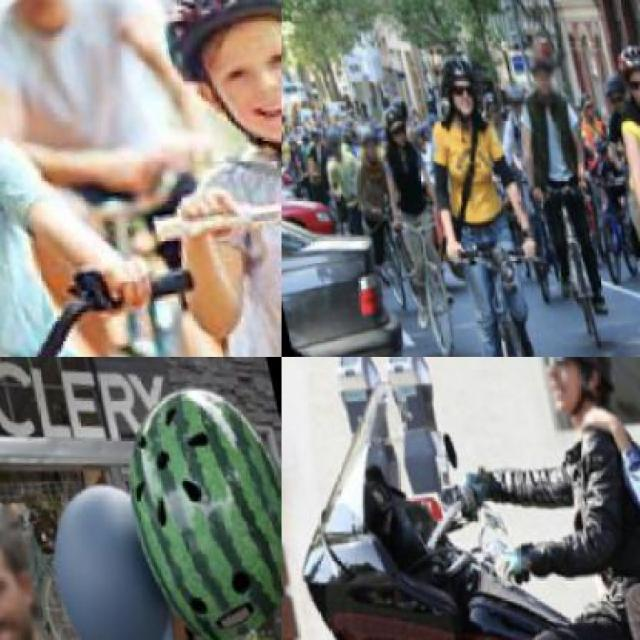With Helmet: (134, 0, 280, 182), (526, 357, 626, 441), (427, 42, 484, 129), (603, 34, 639, 120), (522, 38, 560, 105), (369, 96, 413, 153), (596, 66, 630, 114), (348, 119, 382, 164), (499, 76, 527, 116), (317, 124, 341, 161)
Without Helmet: (0, 498, 51, 638)
